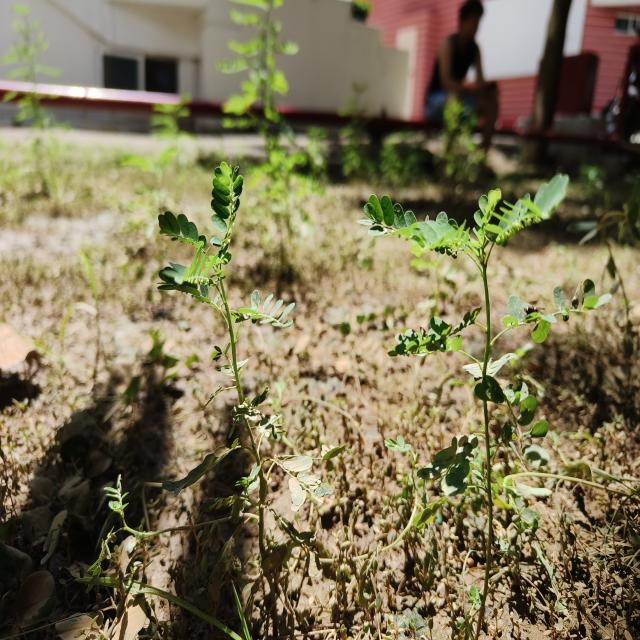weed: (386, 173, 598, 587), (133, 151, 308, 441), (246, 413, 277, 601)
